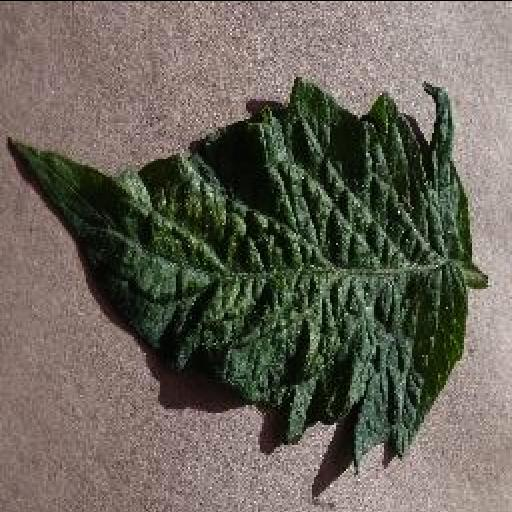disease_tomato: (6, 80, 466, 472)
